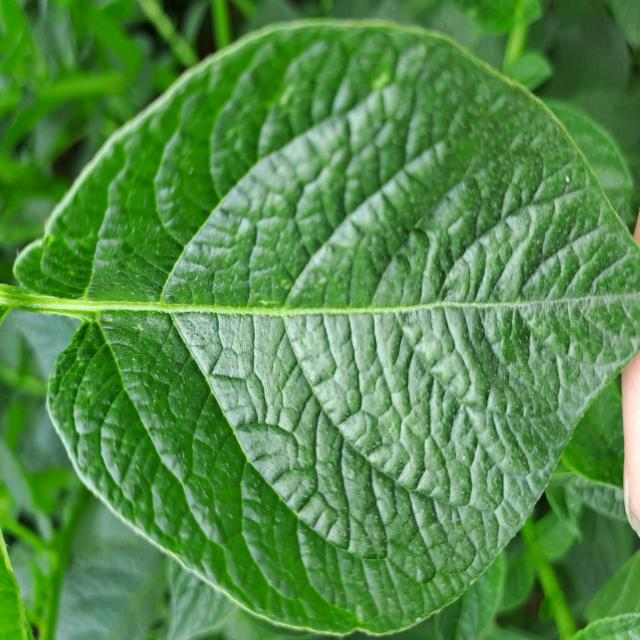healthy: (5, 17, 637, 636)
